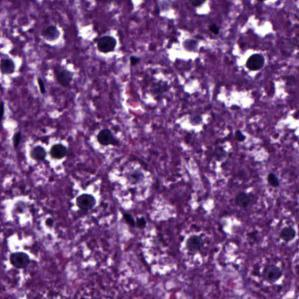inflammation: (97, 124, 121, 152), (10, 247, 33, 272), (92, 33, 116, 56), (245, 51, 266, 74), (50, 140, 68, 166), (40, 23, 64, 40), (77, 191, 96, 212), (30, 143, 46, 164)
